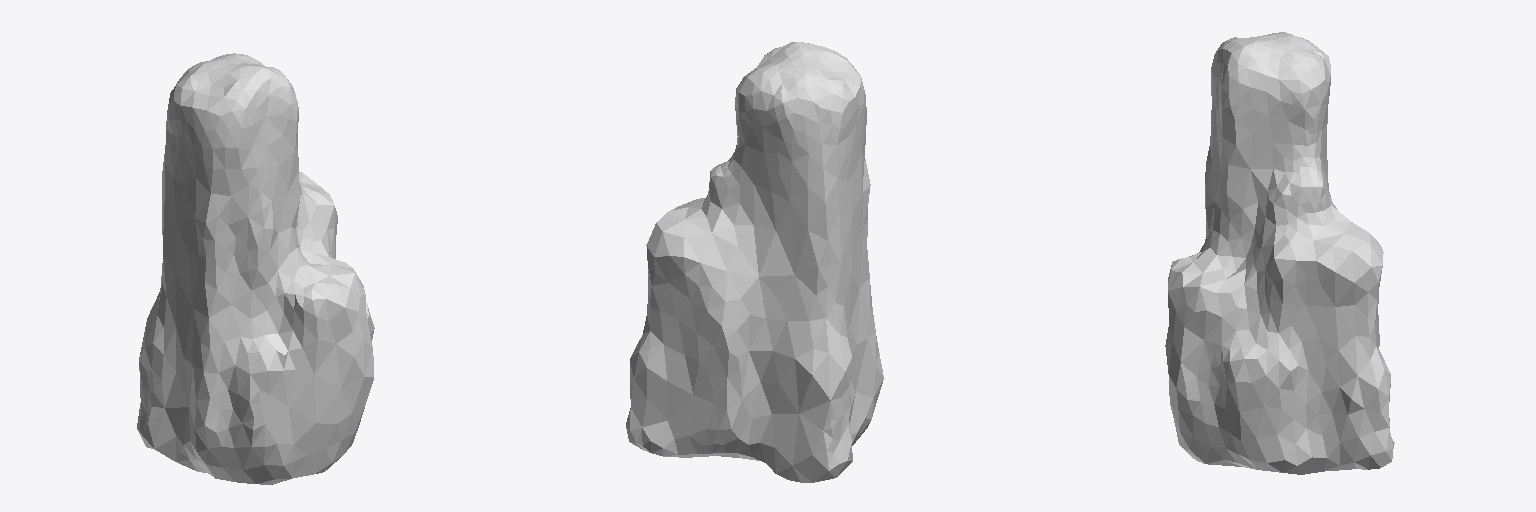
The model's file is RockSet06-A.obj.
3 views of the same model, side by side, from view 1: azimuth 30°, elevation 25°; view 2: azimuth 150°, elevation 25°; view 3: azimuth 270°, elevation 25° (orthographic).
Parts seen in each view (by area): view 1: RockSet06-A; view 2: RockSet06-A; view 3: RockSet06-A.
Boxes of the visible parts, x1,y1,x2,y2 form: RockSet06-A: [137, 53, 374, 484]; RockSet06-A: [626, 42, 883, 482]; RockSet06-A: [1165, 32, 1394, 474].
Bounding box in the file's own units: 26.6 × 53.76 × 27.37.